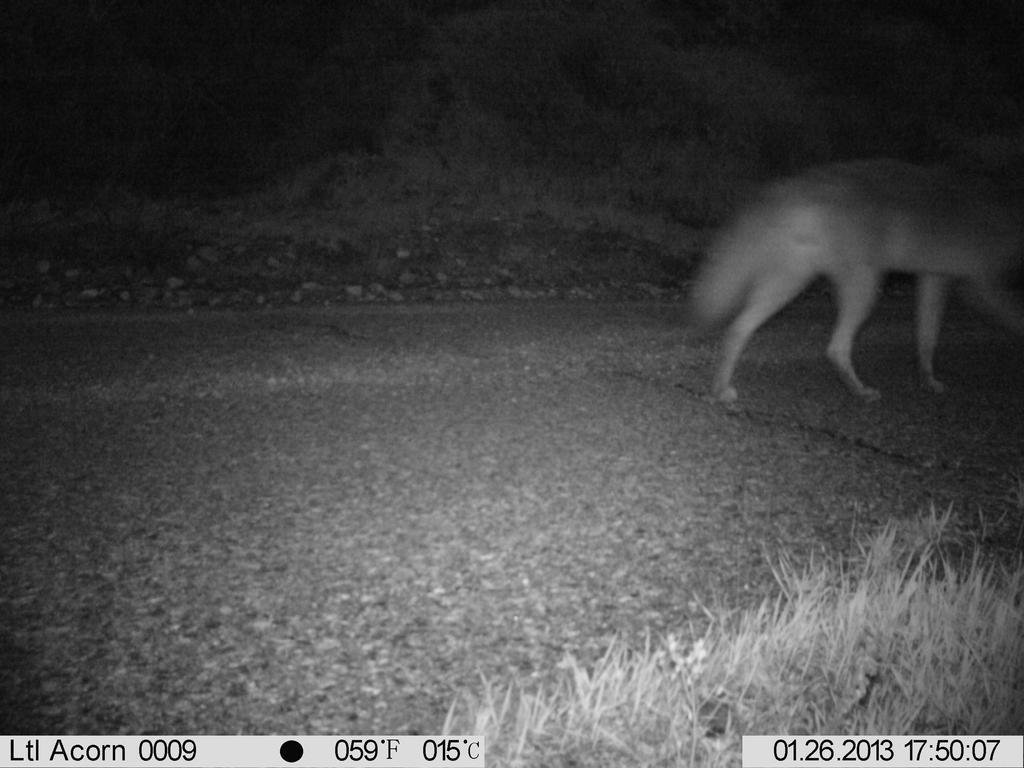coyote: (683, 146, 1021, 410)
